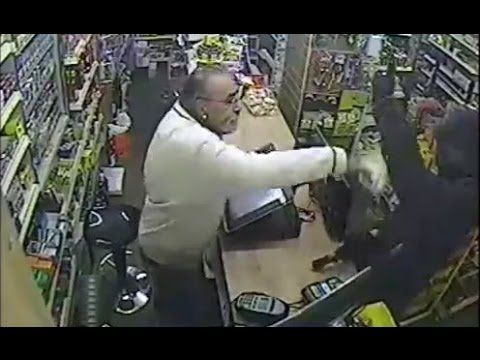gun: (322, 216, 390, 268)
